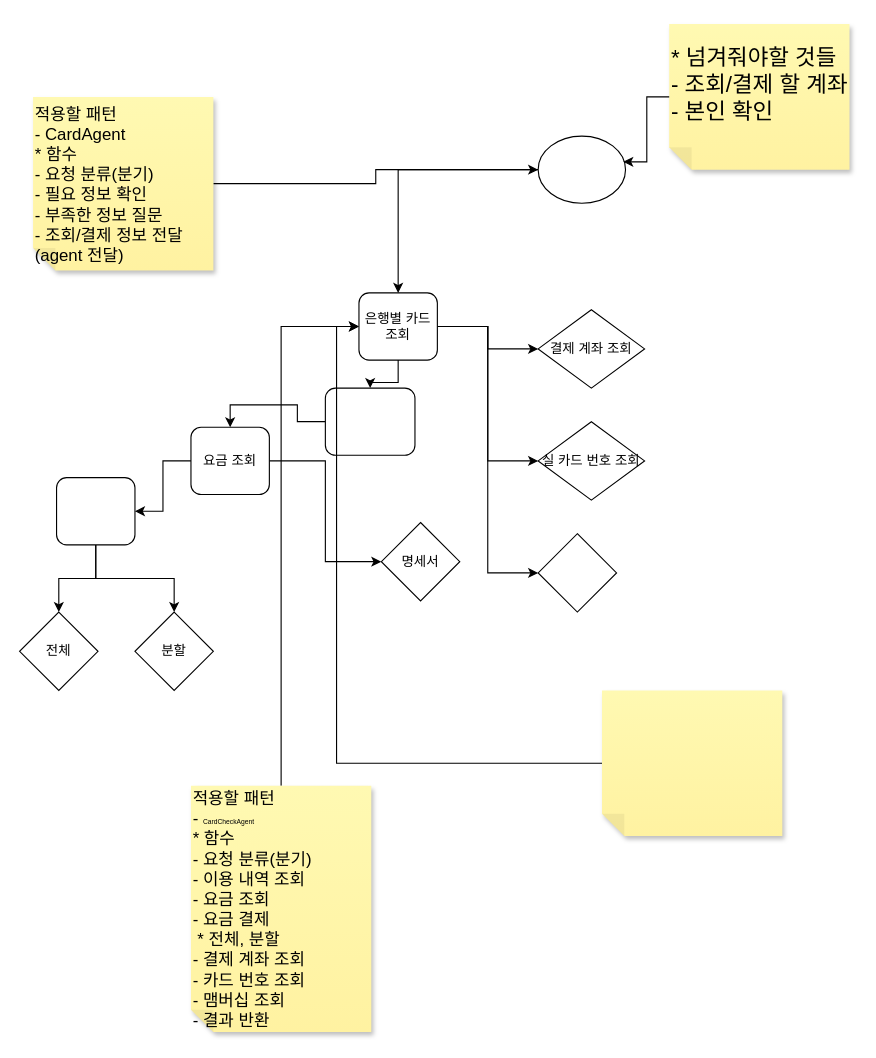
Image size: 876x1058. Some labels were removed from this diagram. Here are the shapes that lost their labels. From the top down, the centre of each, then its label:
At (x=581, y=169): "카드".
At (x=369, y=421): "이용내역 조회".
At (x=95, y=511): "요금 결제".
At (x=577, y=572): "멤버십".
At (x=692, y=764): "* 넘겨줘야할 것들 - supervisor 한테 넘겨받은 것들 포함 - 대상 카드 - 조회/결제 조건 - 결졔 계좌 - 결제 금액 - 결제 방식".
